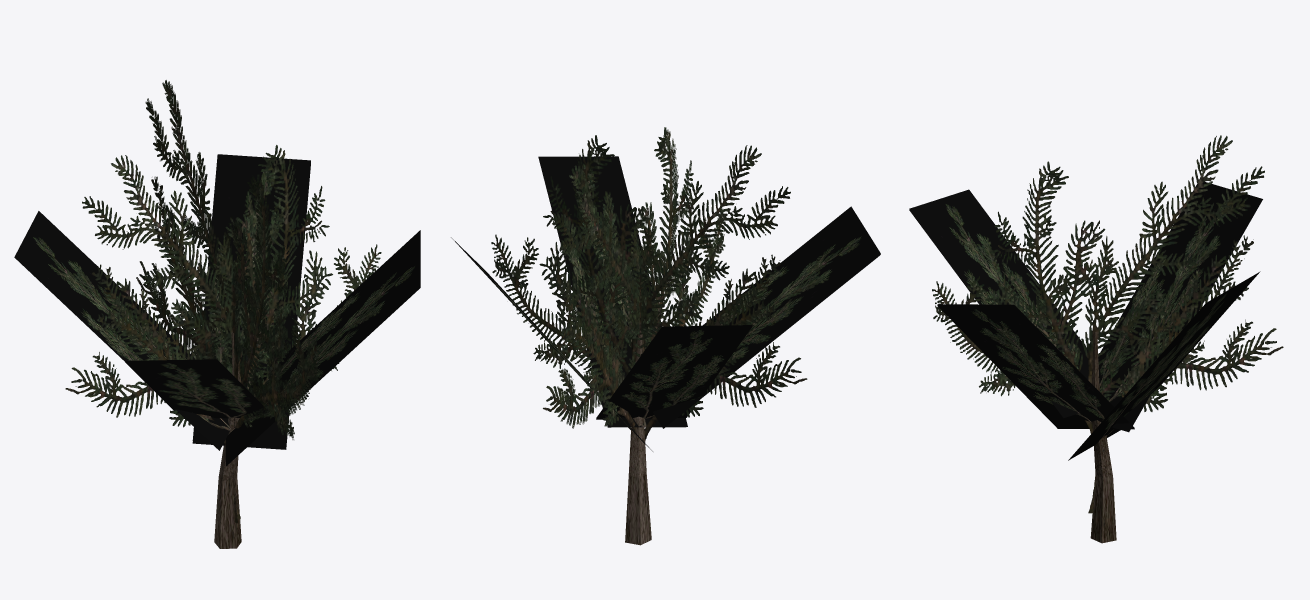
The model's file is mtns_shrb_evergreen_a3_l0.fbx.
The picture shows the model from 3 angles, left to right: view 1: azimuth 30°, elevation 25°; view 2: azimuth 150°, elevation 25°; view 3: azimuth 270°, elevation 25°; orthographic projection. The views are drawn at different scales.
Visible parts, largest first — view 1: mesh_node; view 2: mesh_node; view 3: mesh_node.
Part boxes in pixels (x1,y1,x2,y2): mesh_node: (14,80,420,548); mesh_node: (451,127,880,545); mesh_node: (909,135,1283,543).
Size of the model in its own units: 2.04 by 2.66 by 2.12.
